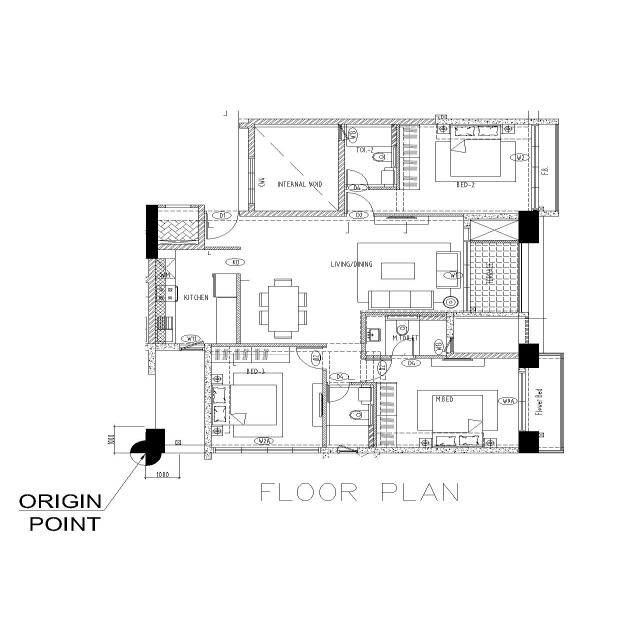Column: (145, 204, 159, 260), (518, 210, 540, 243), (145, 428, 166, 454), (518, 430, 540, 454), (518, 344, 540, 368)
Door: (203, 210, 241, 217), (389, 354, 416, 360), (344, 213, 376, 217), (322, 346, 327, 371), (361, 358, 366, 382), (344, 186, 370, 190), (326, 382, 352, 386)
Ventilator: (337, 446, 359, 454), (337, 123, 346, 141), (446, 336, 454, 354)
Window: (213, 446, 321, 454), (531, 124, 540, 210), (463, 226, 471, 313), (518, 371, 526, 432), (248, 157, 255, 206), (179, 343, 205, 351)
